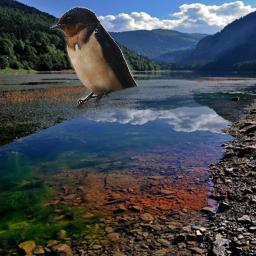Swallow: (50, 6, 139, 108)
